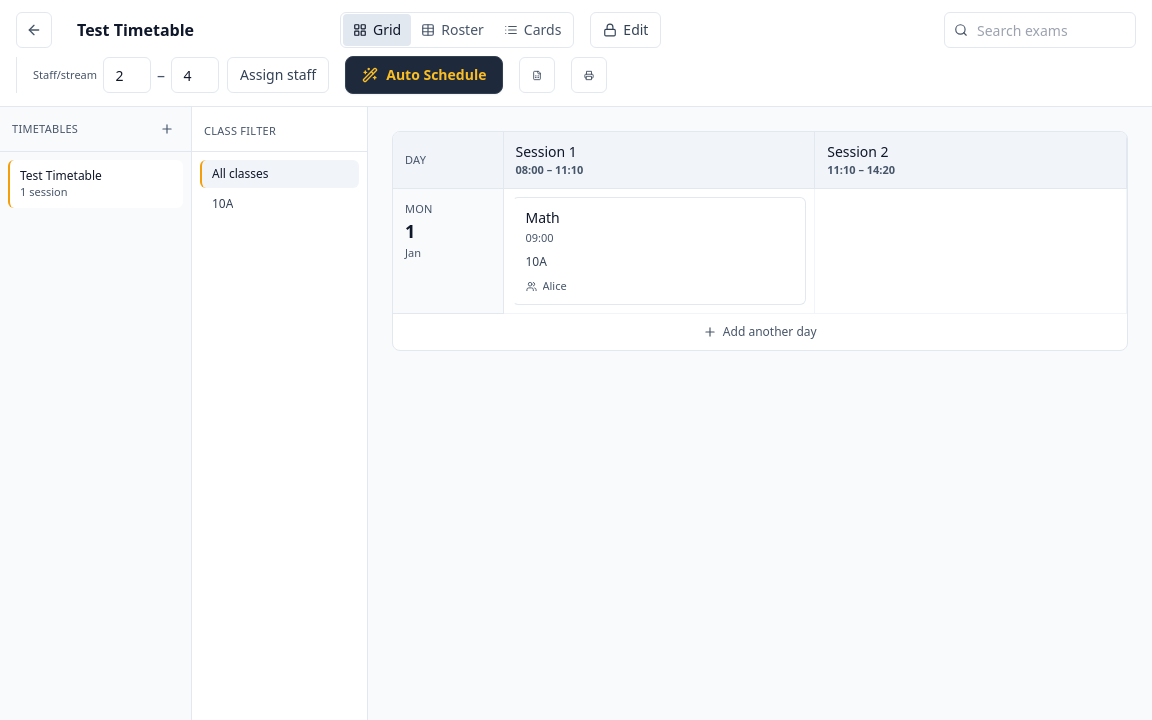
Test case: ExamsView › should open the auto schedule modal
The width and height of the screenshot is (1152, 720).
Click the button "Auto Schedule".
click(424, 75)  # box [345,56,503,94]
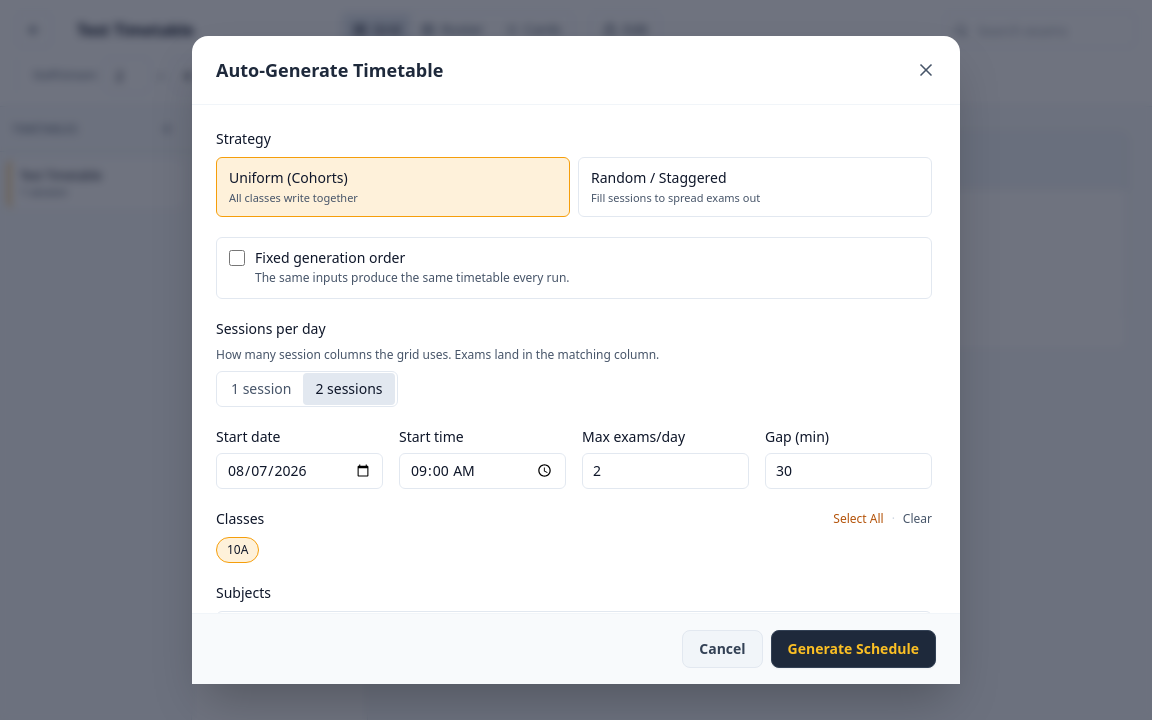
Now the heading "Auto-Generate Timetable" is shown, box [216,56,443,84]
